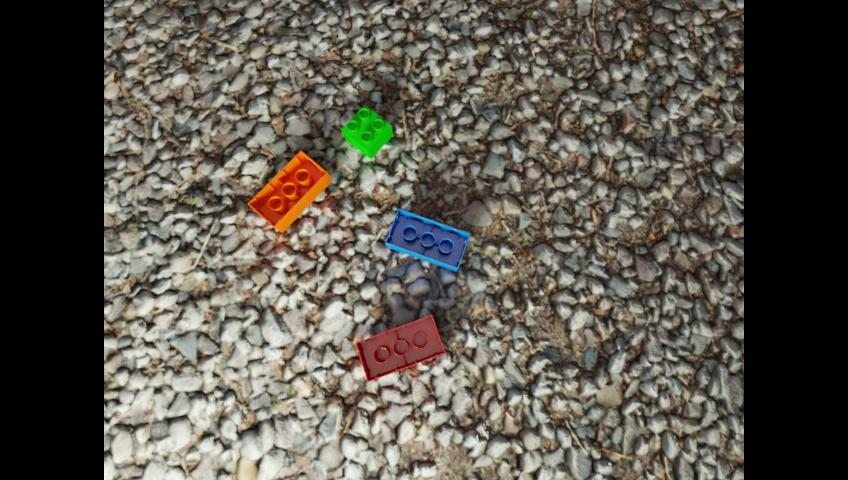2x2_green: (341, 104, 392, 159)
4x2_blue: (385, 208, 469, 271)
4x2_orange: (247, 150, 331, 232)
4x2_red: (356, 314, 444, 382)
